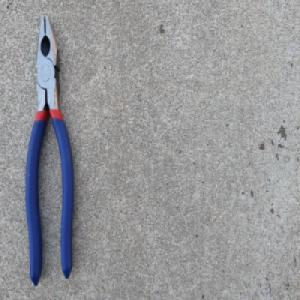Pliers: (24, 12, 75, 287)
